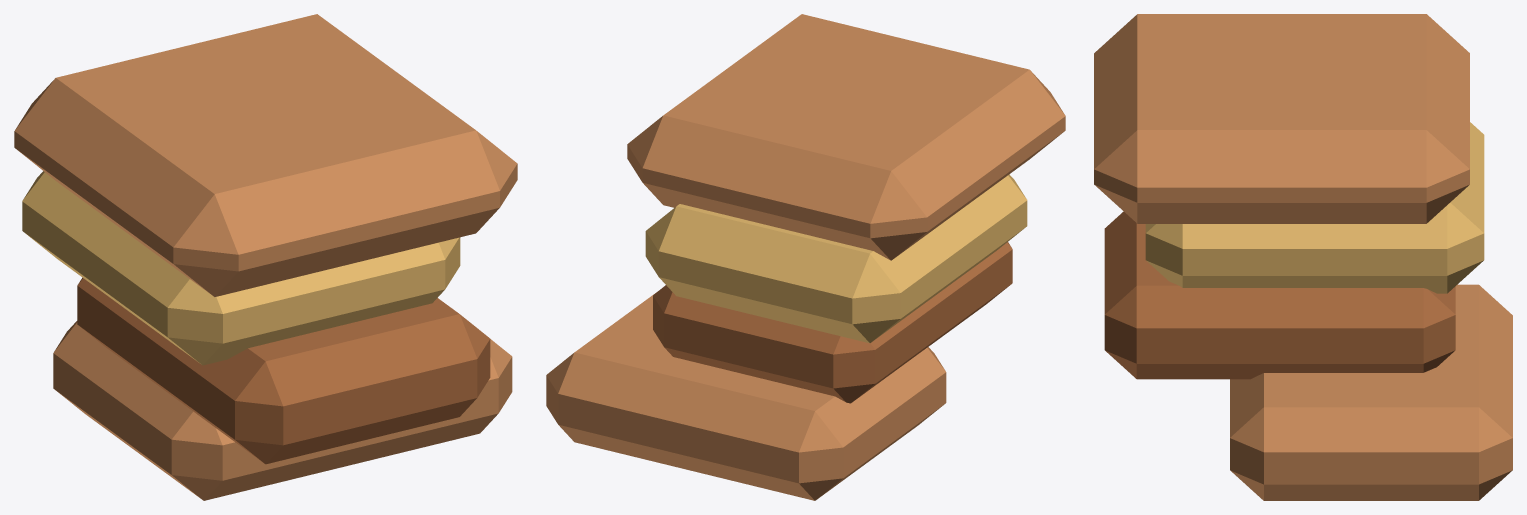
Rendered from namaqualand_boulder_04.gltf.
3 views of the same model, side by side, from view 1: azimuth 30°, elevation 25°; view 2: azimuth 150°, elevation 25°; view 3: azimuth 270°, elevation 25° (orthographic). The views are drawn at different scales.
Parts seen in each view (by area): view 1: strata3, strata1, strata2, strata0; view 2: strata3, strata0, strata2, strata1; view 3: strata3, strata0, strata1, strata2.
Boxes of the visible parts, x1,y1,x2,y2 form: strata3: (14,14,517,296); strata1: (77,277,490,464); strata2: (22,171,460,365); strata0: (53,321,512,500); strata3: (627,14,1065,260); strata0: (546,292,946,500); strata2: (645,174,1027,343); strata1: (653,242,1012,403); strata3: (1094,14,1469,223); strata0: (1230,284,1512,500); strata1: (1104,211,1455,379); strata2: (1145,122,1484,293).
Bounding box in the file's own units: 2.27 × 1.97 × 2.21.
